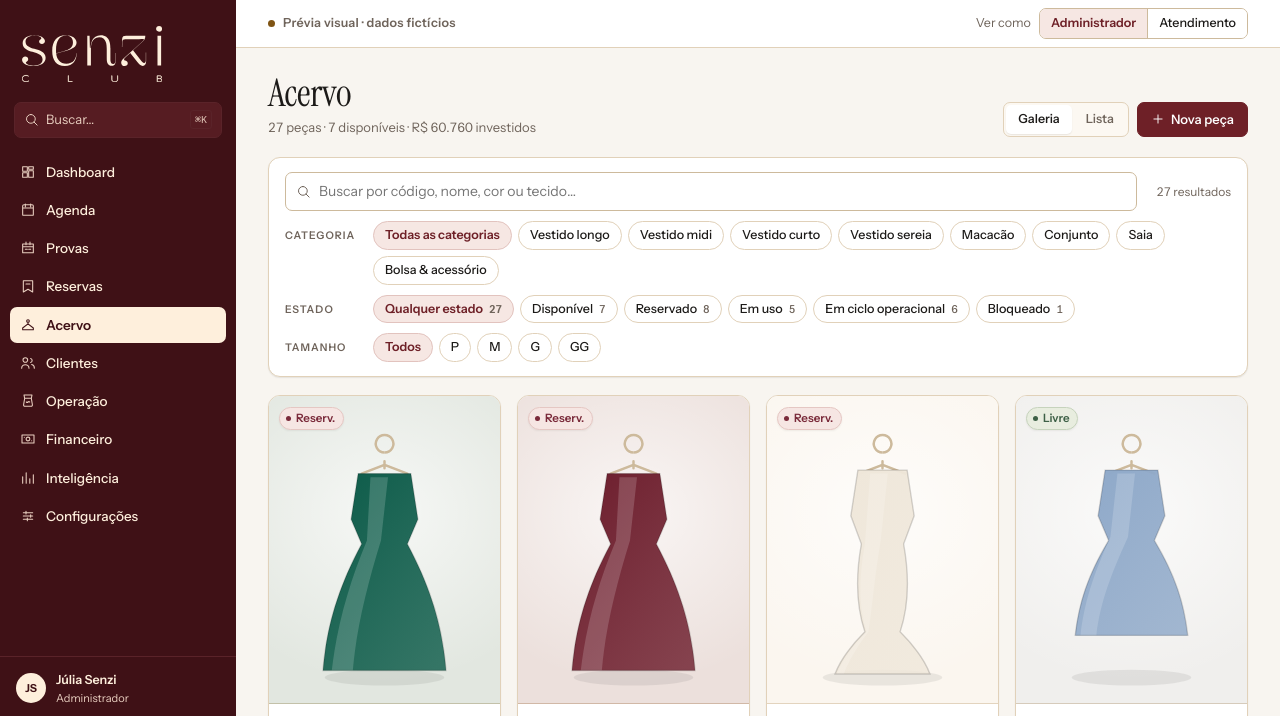
Acervo — lista › busca "verde" filtra depois do debounce e vai para a URL
Type "verde" into the search field named "Buscar peça" at (722, 192), box [319,173,1126,210]
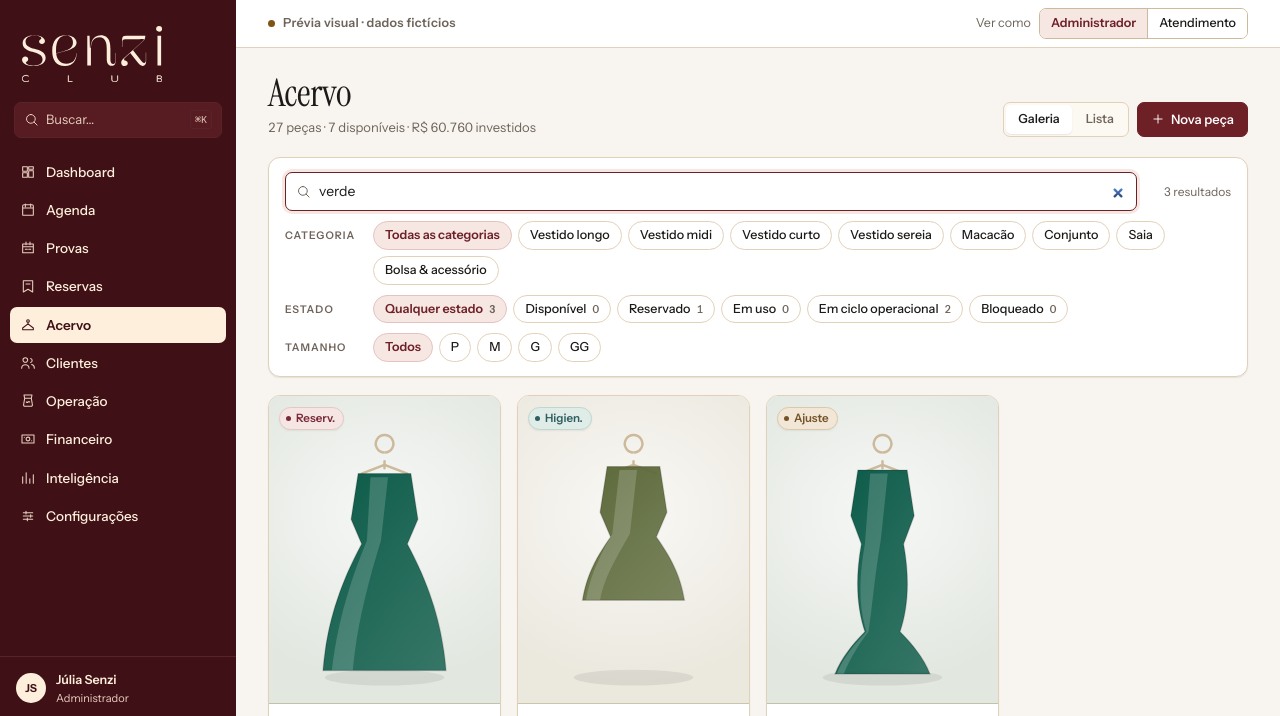
Now the text "3 resultados" is shown, box [1164,184,1231,199]
